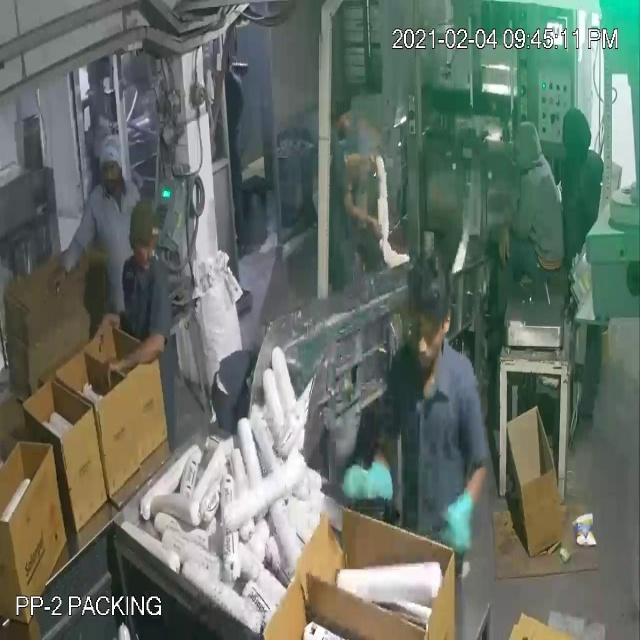Guantes: (328, 427, 414, 540), (442, 453, 494, 567)
Sin_guantes: (98, 335, 173, 397), (331, 178, 391, 248), (76, 296, 129, 353), (341, 134, 391, 179)
